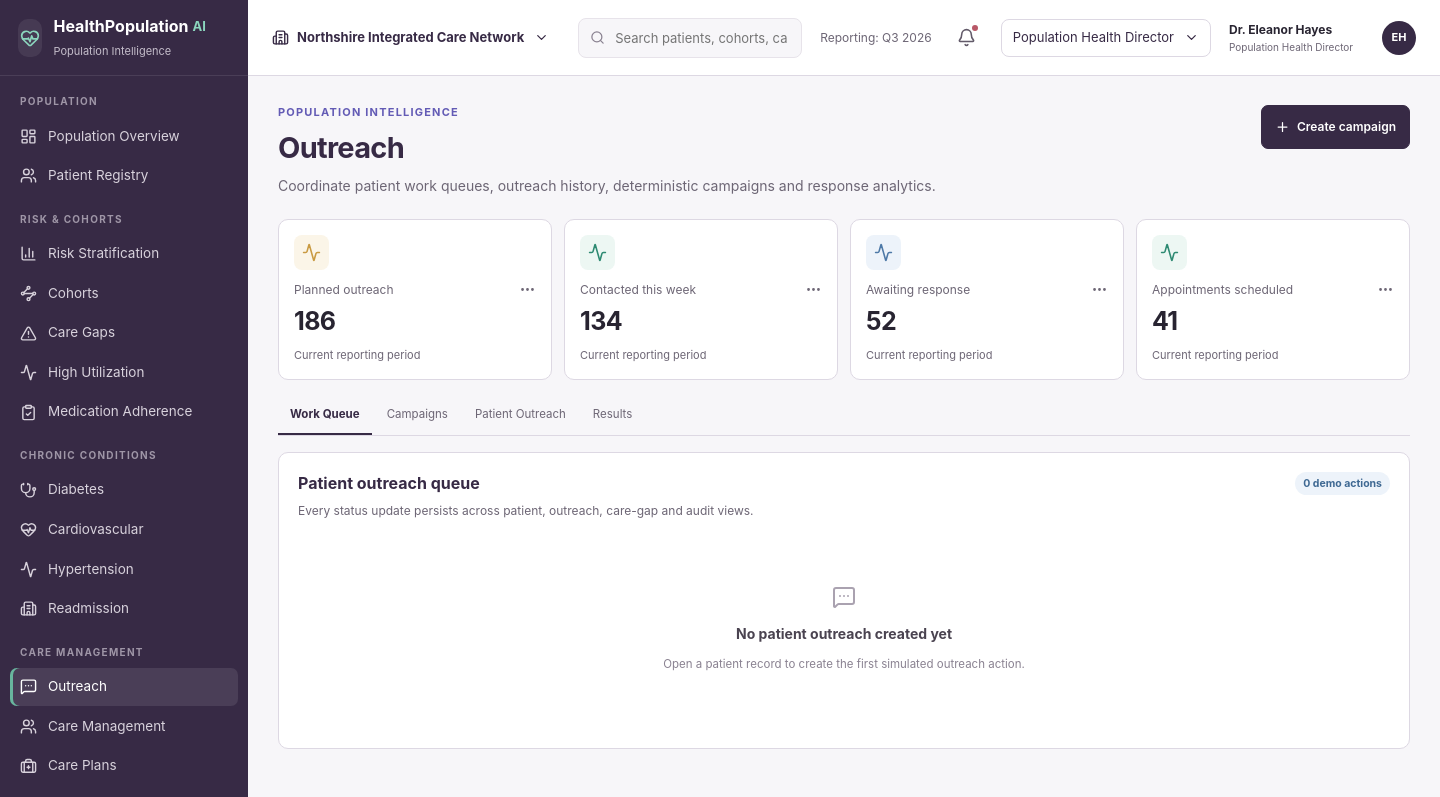
Test: route-level product QA › traps focus and closes campaign dialog with Escape
Step 1. Click the button "Create campaign" → (1336, 127), box [1261,105,1410,149]
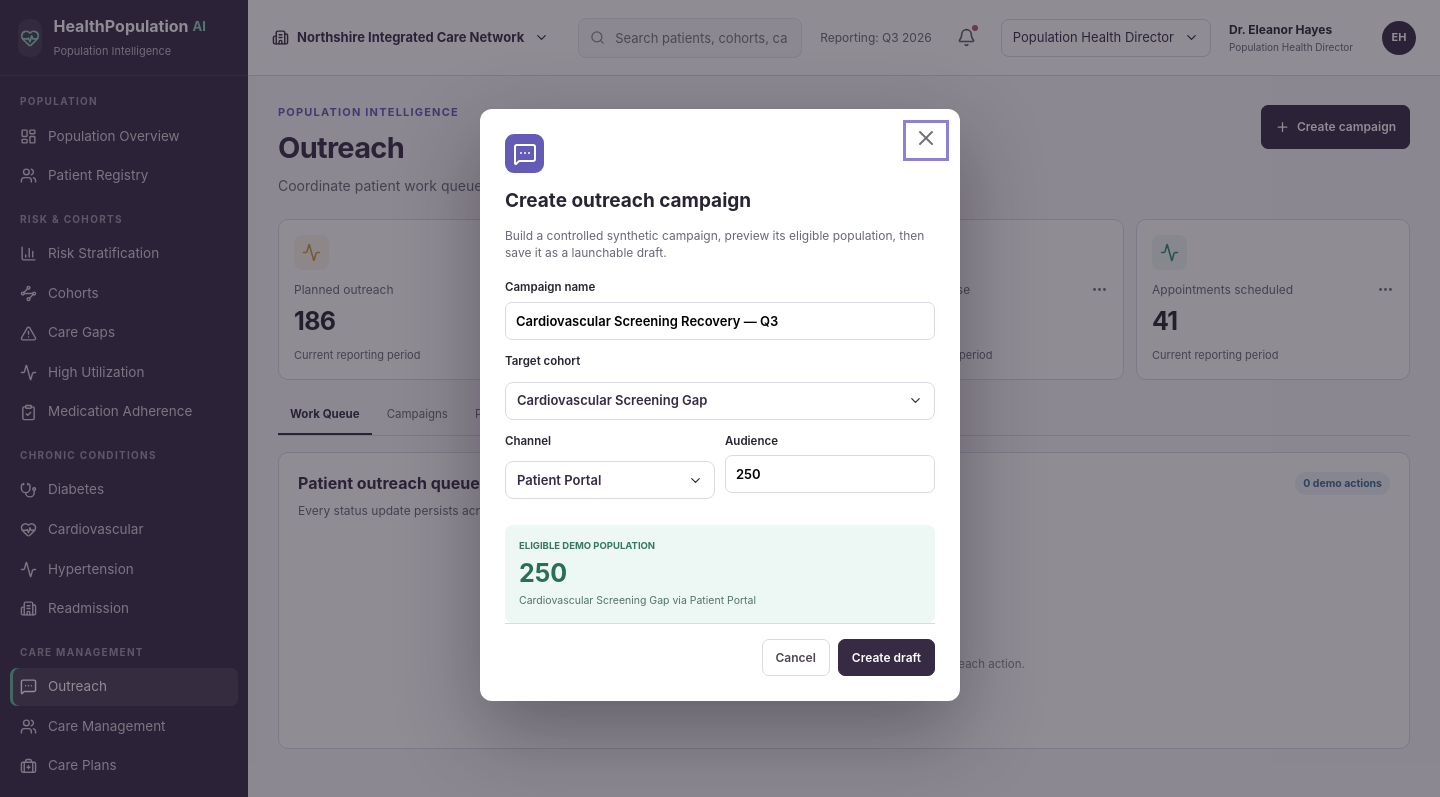
Step 2. Press Escape
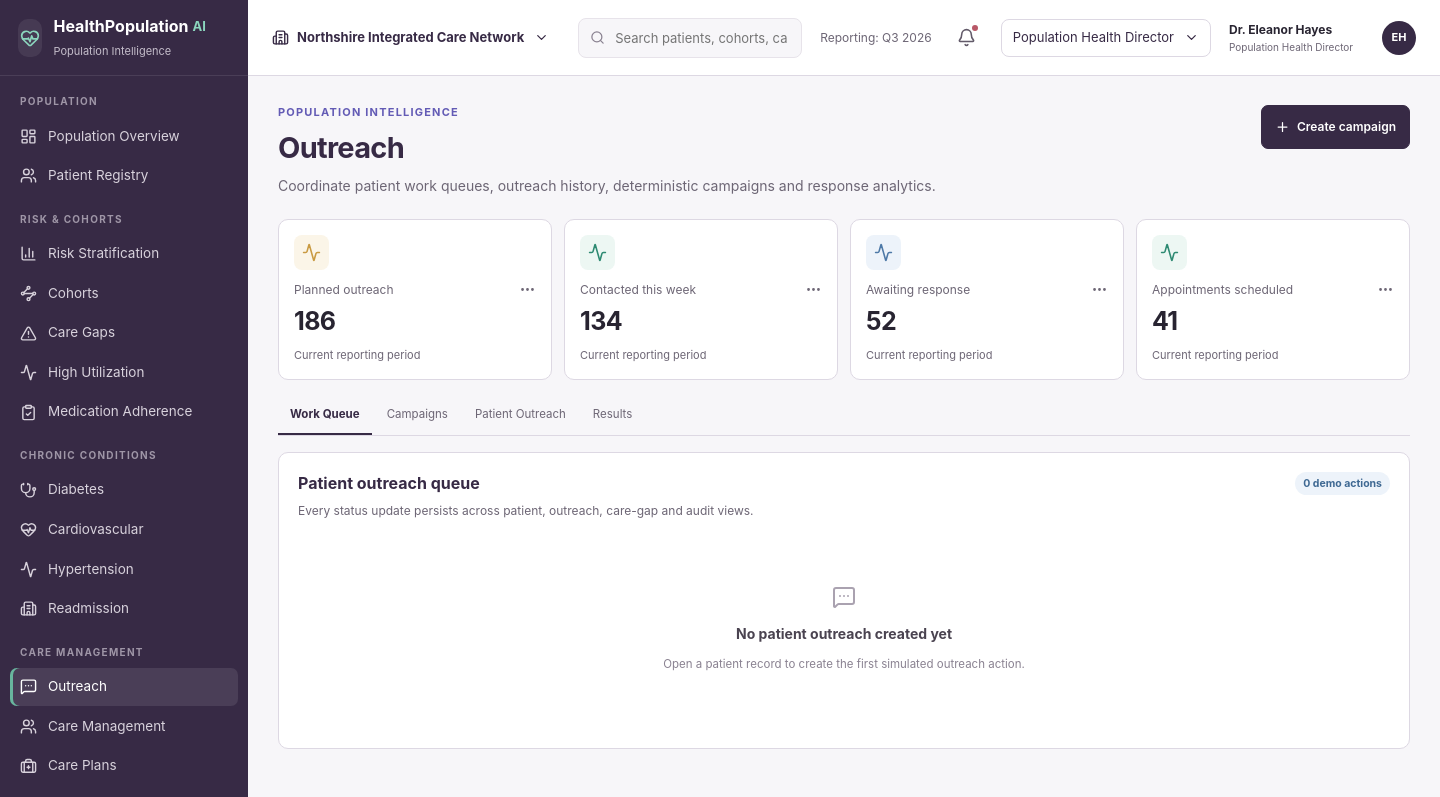
expect the heading "Create outreach campaign" is gone: met
